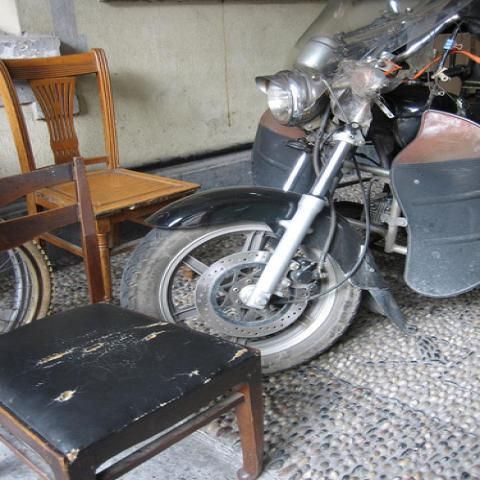motorcycle: (125, 4, 478, 372)
